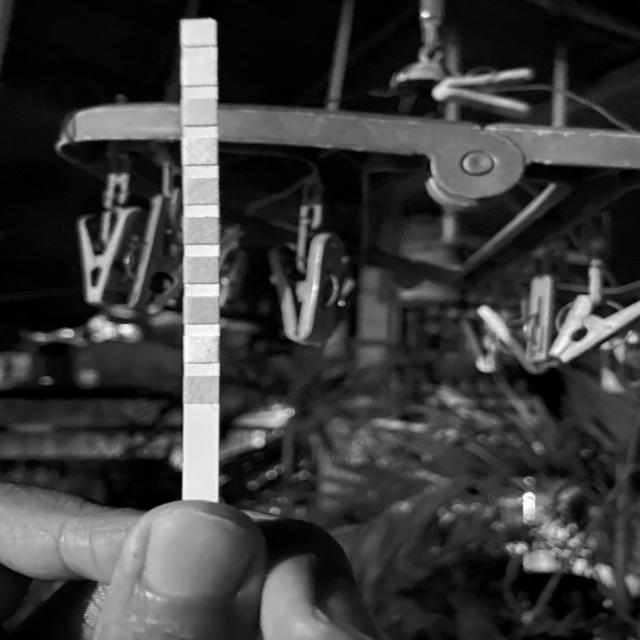Bilirubin: (184, 337, 217, 362)
Blood: (185, 218, 218, 243)
Glucose: (184, 378, 218, 402)
Ketone: (185, 299, 217, 322)
Leukocytes: (182, 20, 215, 45)
Nitrite: (183, 63, 217, 84)
Protein: (184, 138, 216, 163)
SpGravity: (185, 258, 217, 282)
Urobilinogen: (184, 101, 216, 123)
background: (0, 0, 640, 640)
pH: (184, 180, 217, 204)
strip: (179, 19, 219, 502)
